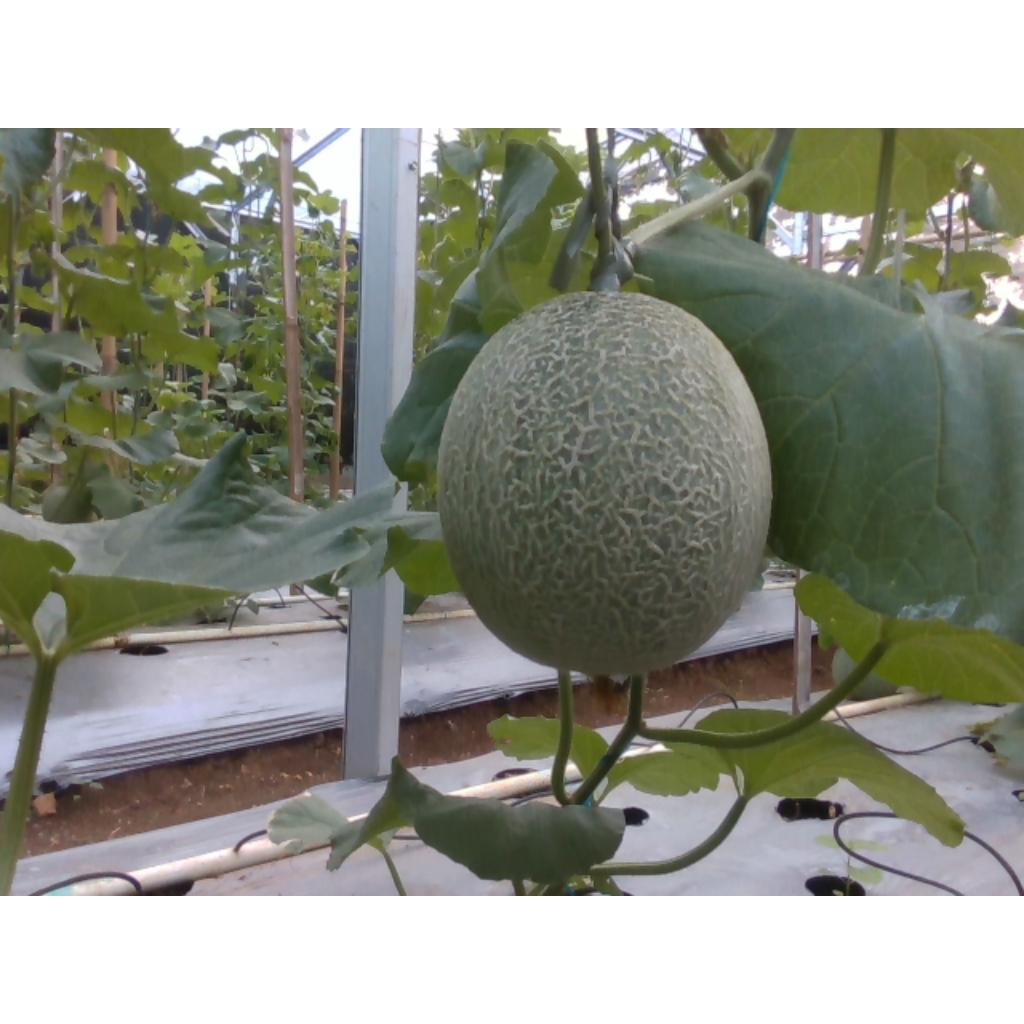melon: (440, 293, 771, 675)
